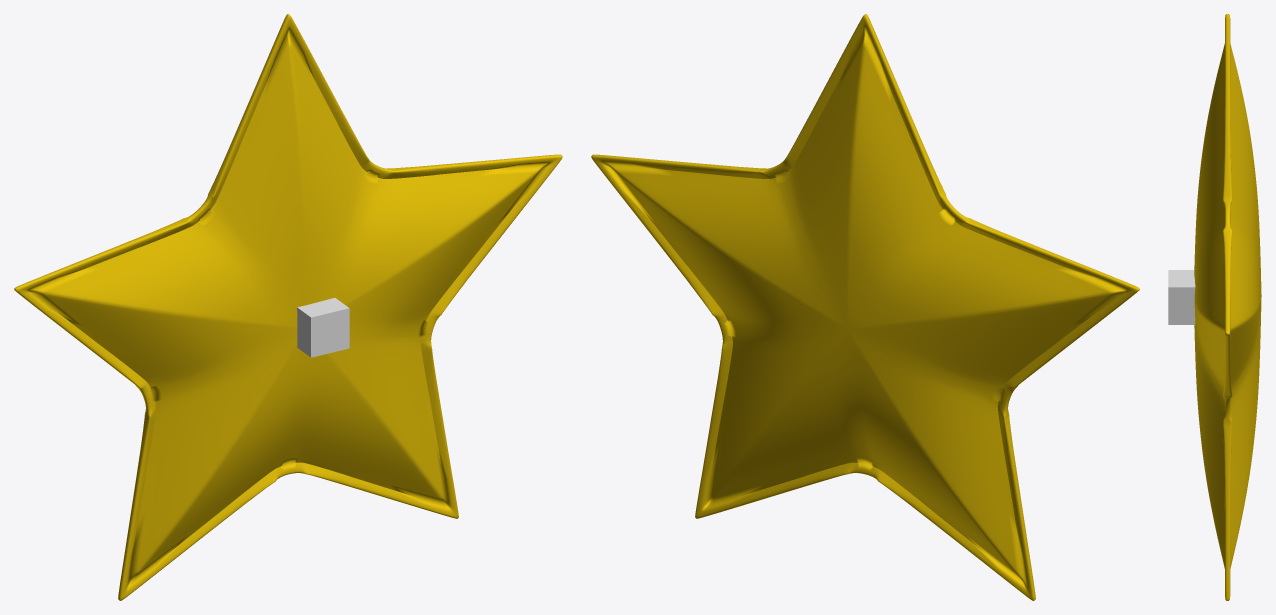
Rendered from star.fbx.
The picture shows the model from 3 angles, left to right: view 1: azimuth 30°, elevation 25°; view 2: azimuth 150°, elevation 25°; view 3: azimuth 270°, elevation 25°; orthographic projection. The views are drawn at different scales.
Visible parts, largest first — view 1: Circle, Cube; view 2: Circle; view 3: Circle, Cube.
Boxes of the visible parts, x1,y1,x2,y2 form: Circle: (14,14,562,600); Cube: (297,298,349,357); Circle: (591,14,1139,600); Circle: (1194,14,1261,600); Cube: (1168,270,1195,324).
Bounding box in the file's own units: 188 × 179 × 29.63.
